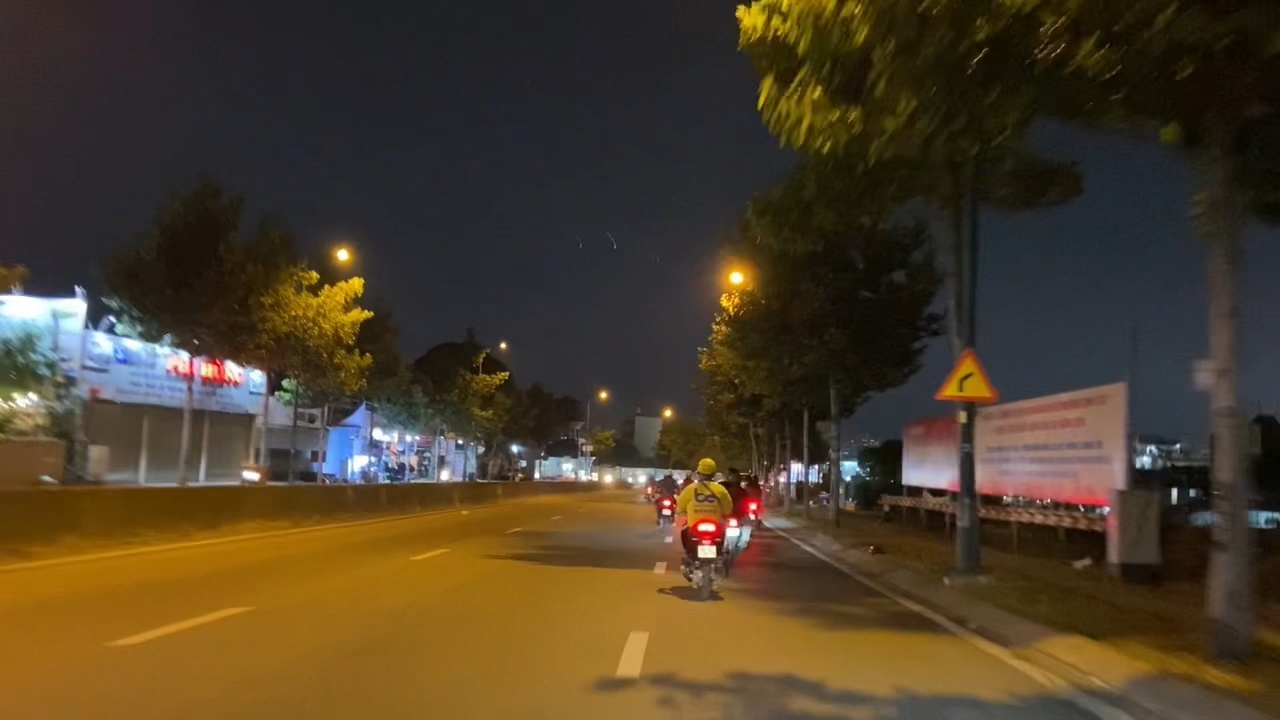duong_nghieng_phai: (932, 341, 1002, 409)
